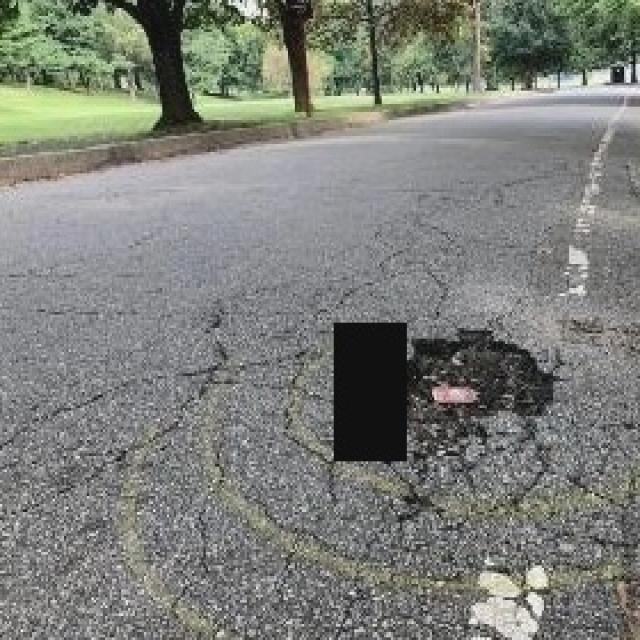road-pothole: (403, 324, 572, 459)
